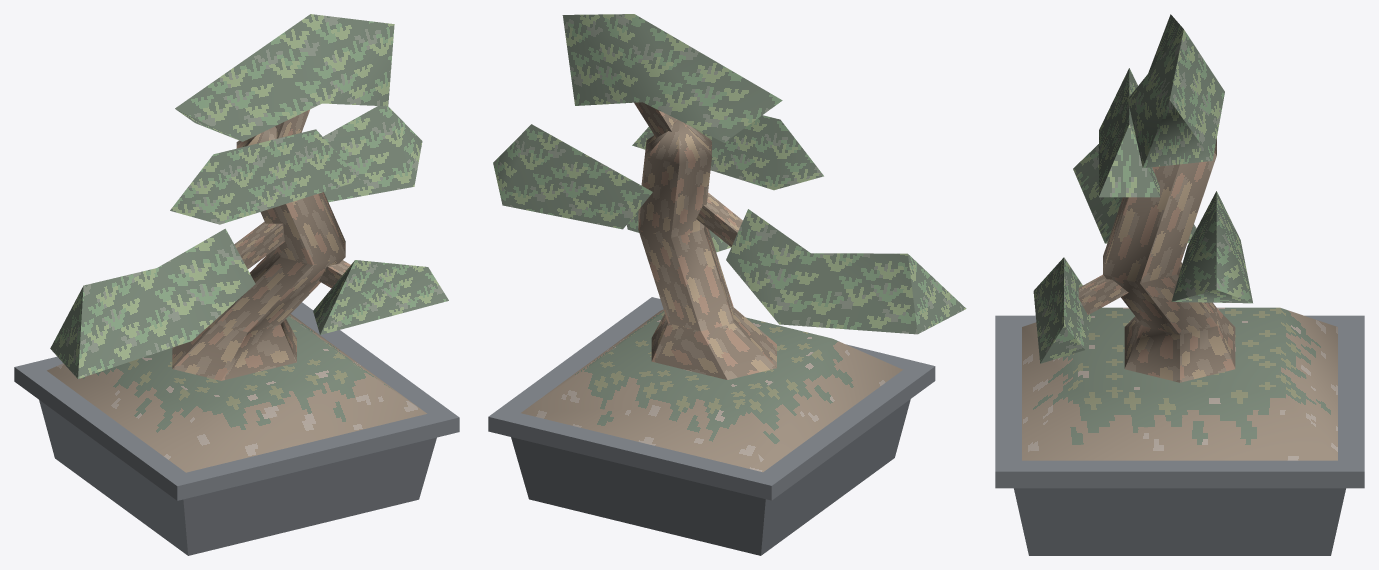
The model's file is 0123_Bonsai.glb.
The picture shows the model from 3 angles, left to right: view 1: azimuth 30°, elevation 25°; view 2: azimuth 150°, elevation 25°; view 3: azimuth 270°, elevation 25°; orthographic projection. The views are drawn at different scales.
Parts seen in each view (by area): view 1: part_0; view 2: part_0; view 3: part_0.
Part boxes in pixels (bbox=[...]): part_0: bbox=[14, 14, 459, 555]; part_0: bbox=[488, 14, 966, 555]; part_0: bbox=[995, 14, 1364, 555].
Bounding box in the file's own units: 0.5686 × 0.5932 × 0.3932.
Materials: 1 (1 with a texture image).
